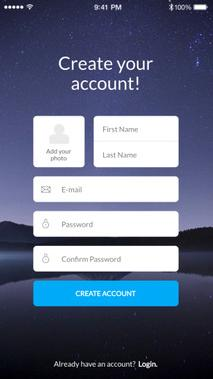button: (32, 279, 180, 307)
field: (31, 244, 180, 273), (32, 175, 180, 202), (32, 210, 179, 237), (94, 114, 180, 143), (92, 143, 180, 167)
